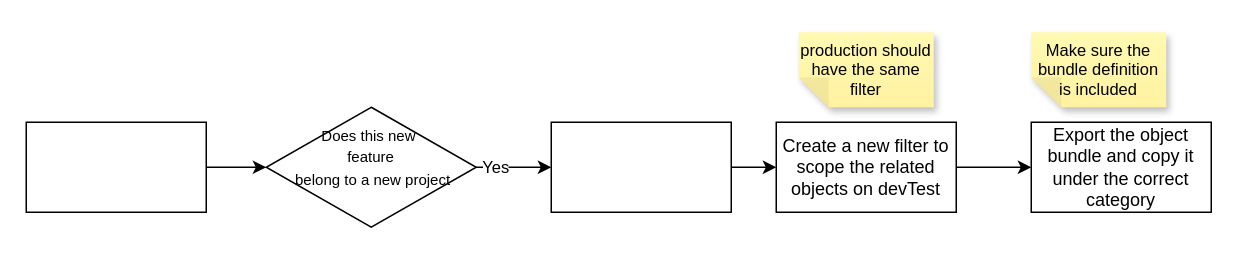
This 1238x254 diagram has some shape labels left out. The shapes that lost their labels are listed below. From the top down, each one's centre as x and y in pixels, then its label:
(115,166): Aspen Custom Feature A
(640,166): Give it a project ID, e.g. BW-SPEC-ED
